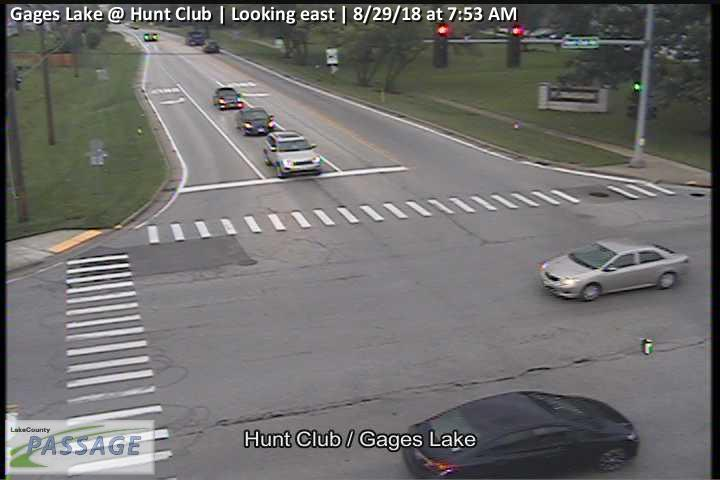SUV: (187, 31, 204, 46)
Sedan: (401, 392, 639, 480), (540, 239, 689, 300), (264, 130, 324, 179), (238, 107, 275, 137), (214, 88, 242, 110), (203, 38, 219, 52), (144, 33, 159, 41)
